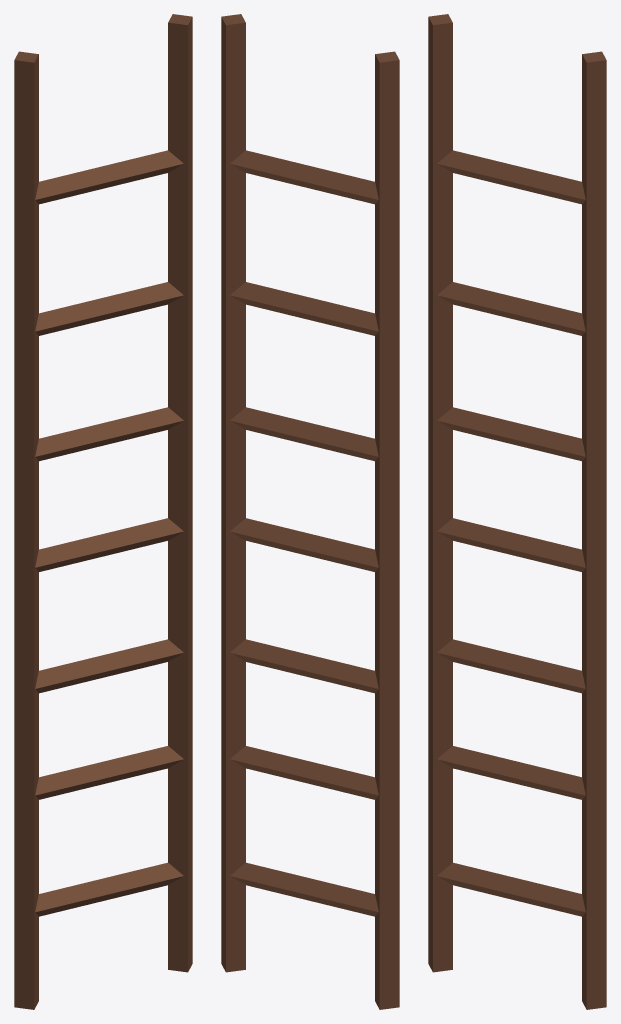
Rendered from Ladder.fbx.
3 views of the same model, side by side, from view 1: azimuth 30°, elevation 25°; view 2: azimuth 150°, elevation 25°; view 3: azimuth 330°, elevation 25° (orthographic).
Parts seen in each view (by area): view 1: Ladder; view 2: Ladder; view 3: Ladder.
Boxes of the visible parts, box(x1,y1,x2,y2) form: Ladder: box(14, 14, 192, 1009); Ladder: box(221, 14, 399, 1009); Ladder: box(428, 14, 606, 1009).
Bounding box in the file's own units: 70.13 × 356 × 10.47.
Materials: 1 (1 with a texture image).
